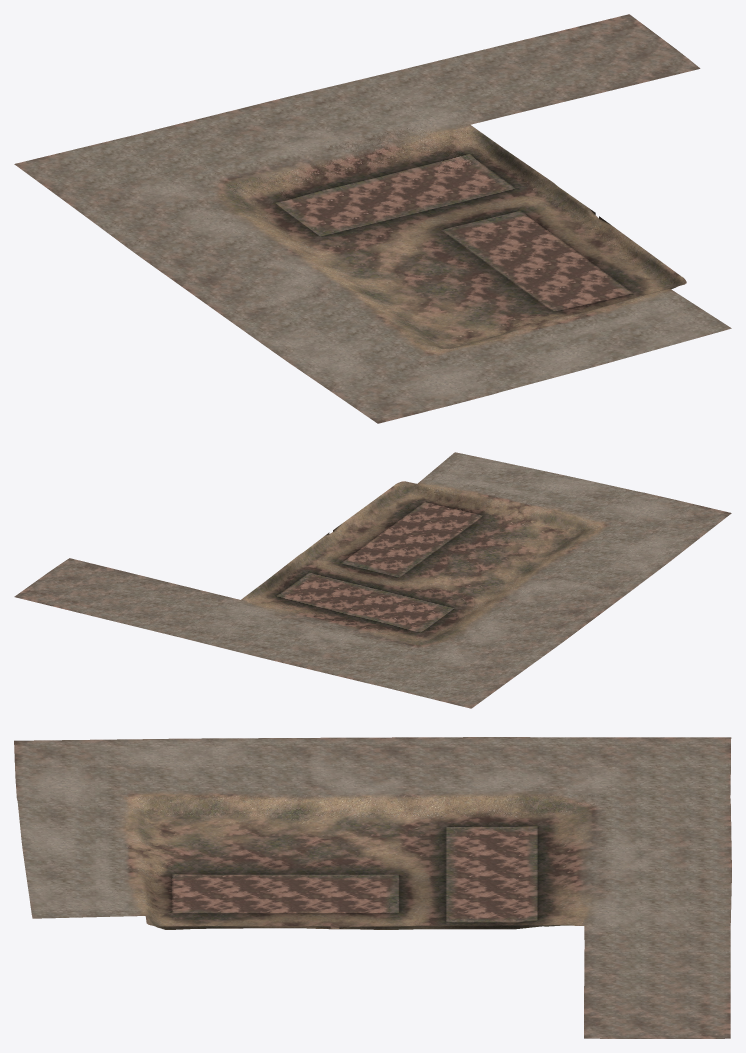
The model's file is IndustrialGround.FBX.
The picture shows the model from 3 angles, top to bottom: view 1: azimuth 30°, elevation 25°; view 2: azimuth 150°, elevation 25°; view 3: azimuth 270°, elevation 25°; orthographic projection. The views are drawn at different scales.
Visible parts, largest first — view 1: IndustrialGround; view 2: IndustrialGround; view 3: IndustrialGround.
Boxes of the visible parts, x1=… form: IndustrialGround: x1=14, y1=14, x2=731, y2=423; IndustrialGround: x1=14, y1=452, x2=731, y2=708; IndustrialGround: x1=14, y1=737, x2=731, y2=1038.
Bounding box in the file's own units: 16712 × 254 × 16806.
Materials: 1 (1 with a texture image).
